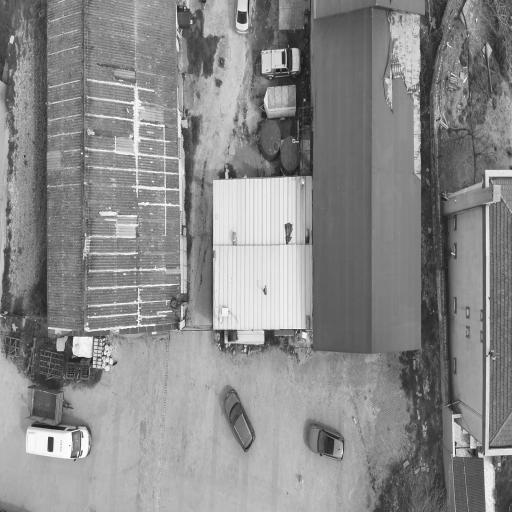car: (26, 422, 92, 459), (225, 390, 255, 451), (261, 48, 301, 80), (308, 424, 343, 460), (236, 0, 249, 34)
